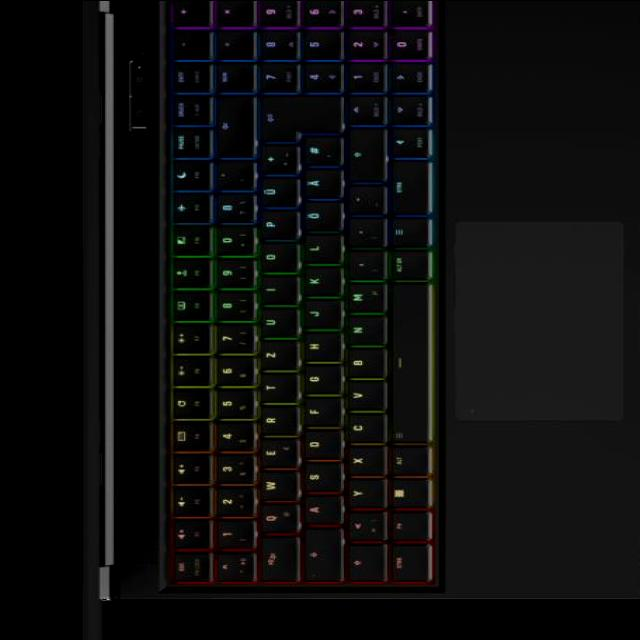0: (210, 228, 250, 258)
1: (210, 523, 250, 551)
2: (210, 489, 250, 519)
3: (210, 457, 250, 487)
4: (209, 423, 249, 453)
5: (210, 391, 250, 421)
6: (210, 358, 250, 388)
7: (210, 327, 250, 355)
8: (210, 294, 250, 324)
9: (210, 261, 250, 291)
a: (297, 498, 337, 526)
accent: (211, 163, 251, 193)
ae: (297, 171, 337, 201)
alt-left: (385, 449, 425, 477)
altgr-right: (383, 252, 425, 282)
b: (340, 350, 380, 380)
c: (340, 415, 380, 445)
caret: (210, 555, 250, 585)
comma: (340, 253, 380, 283)
d: (297, 433, 337, 461)
del: (212, 98, 250, 159)
e: (253, 441, 293, 471)
enter: (253, 98, 339, 144)
f: (297, 400, 337, 428)
g: (297, 368, 337, 396)
h: (297, 335, 337, 365)
hash: (297, 139, 337, 169)
i: (253, 278, 293, 306)
j: (297, 303, 337, 331)
k: (297, 270, 337, 298)
keyboard: (152, 0, 442, 596)
l: (297, 237, 337, 265)
less: (340, 514, 380, 544)
m: (340, 285, 380, 315)
minus: (341, 187, 381, 217)
n: (340, 317, 380, 347)
o: (254, 245, 294, 275)
oe: (297, 205, 337, 233)
p: (253, 213, 293, 243)
plus: (254, 147, 294, 177)
point: (340, 220, 380, 250)
q: (254, 506, 294, 536)
r: (254, 408, 294, 438)
s: (297, 466, 337, 494)
shift-left: (341, 547, 381, 585)
shift-lock: (297, 531, 337, 585)
shift-right: (341, 131, 381, 185)
space: (385, 286, 427, 446)
ss: (211, 196, 251, 226)
strg-left: (385, 547, 427, 586)
strg-right: (385, 161, 425, 217)
t: (254, 376, 292, 404)
tab: (253, 539, 293, 585)
u: (253, 311, 293, 339)
ue: (255, 180, 295, 210)
v: (340, 382, 380, 412)
w: (253, 474, 293, 504)
x: (340, 449, 380, 477)
y: (341, 482, 381, 510)
z: (253, 343, 293, 373)
